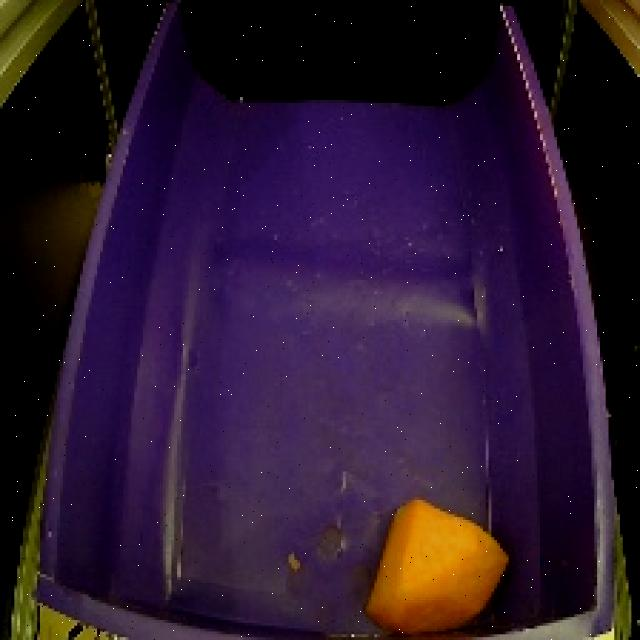carrots: (354, 491, 514, 640)
